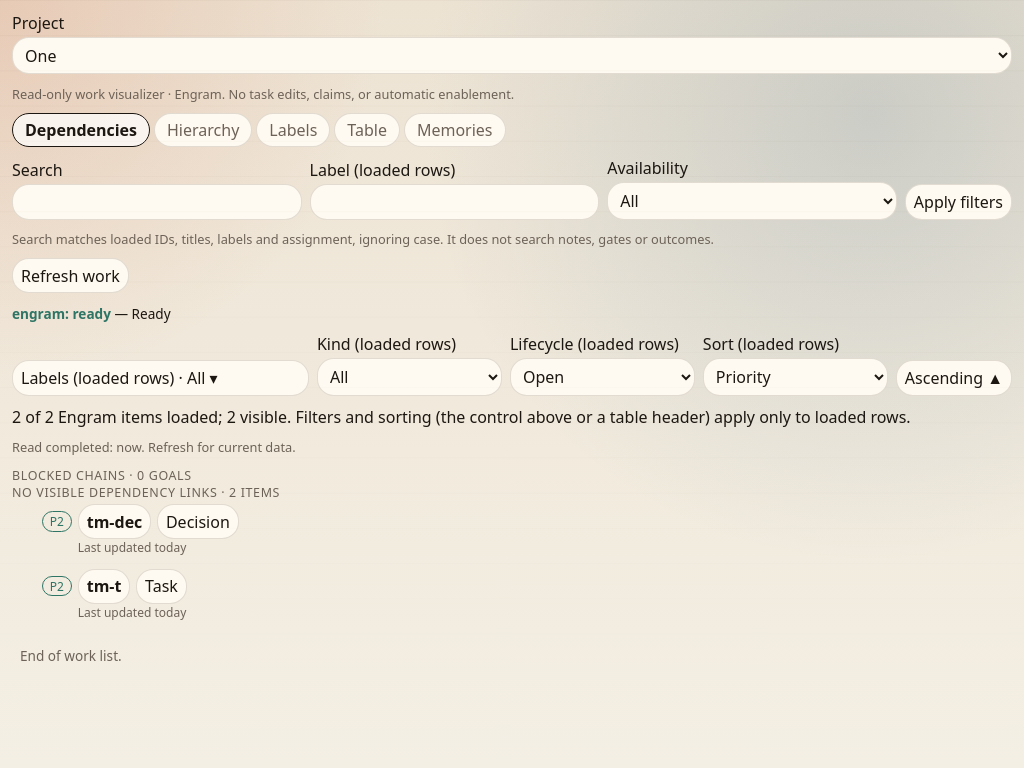
Test case: WorkPanel › keeps a selected kind visible when a refreshed snapshot no longer has it
This screenshot has width=1024, height=768.
Expected: the button with aria-label "tm-dec — Decision" is shown, top-left (157, 504), bottom-right (239, 539)
Select "decision" in the dropdown labelled "Kind (loaded rows)". click: coordinates (410, 377)
box: top-left (317, 358), bottom-right (502, 396)
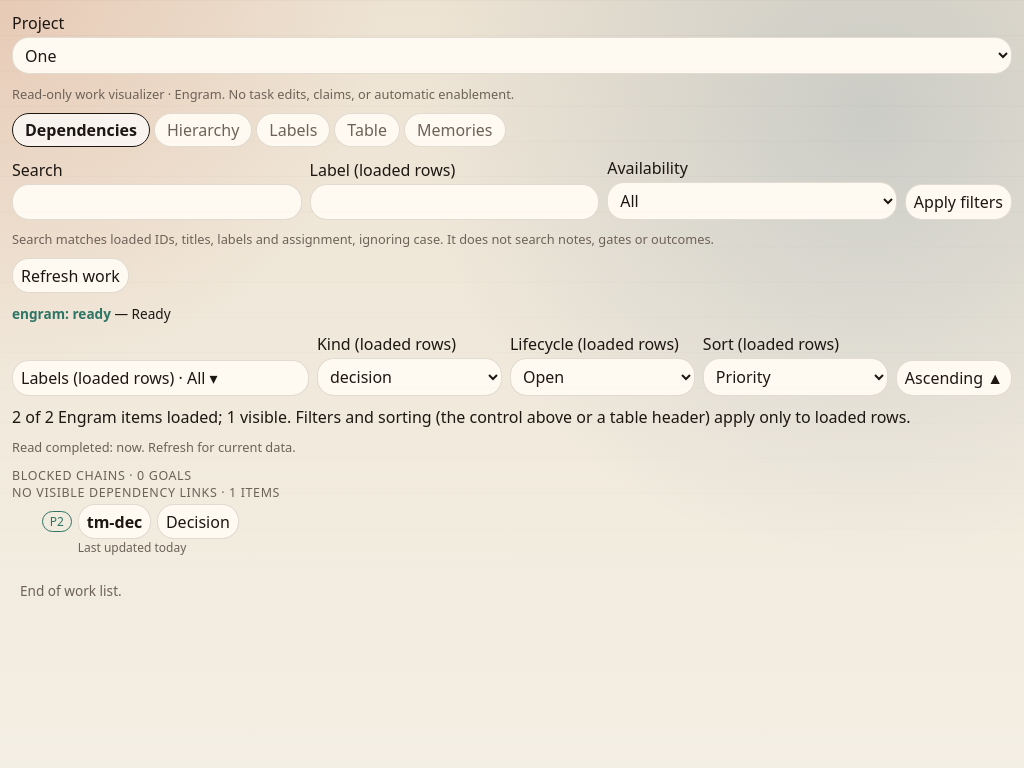
Click the button "Refresh work". click: coordinates (70, 276)
box: top-left (12, 258), bottom-right (129, 294)
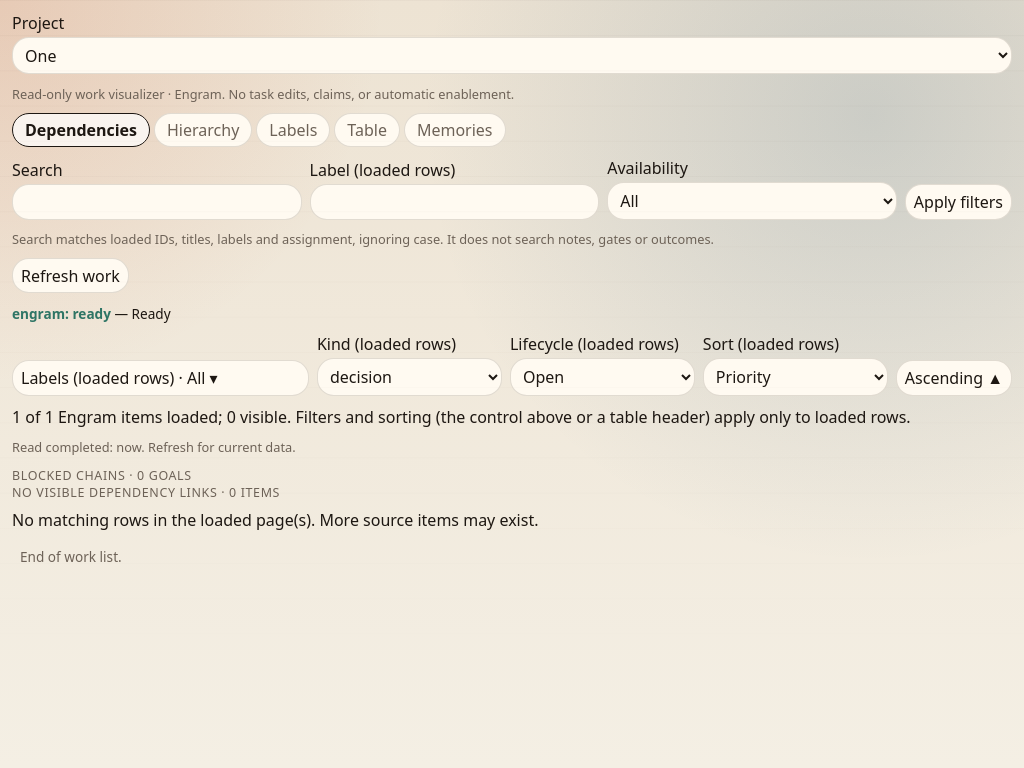
Result: the dropdown labelled "Kind (loaded rows)" shows "decision" at top-left (317, 358), bottom-right (502, 396)
Result: the text "1 of 1 Engram items loaded" is shown at top-left (12, 406), bottom-right (218, 428)
Result: the text "No matching rows in the loaded page" is shown at top-left (12, 509), bottom-right (538, 531)
